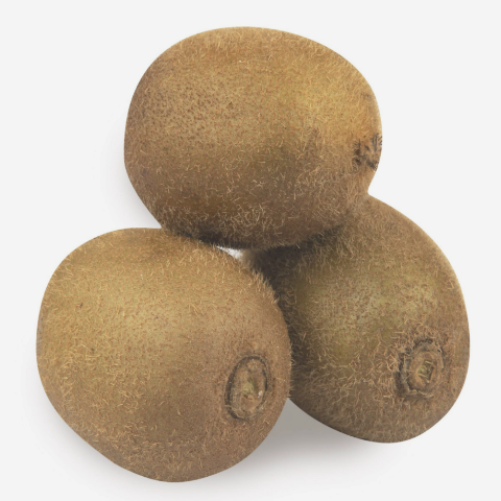kiwi: (21, 209, 317, 490), (98, 14, 386, 255), (230, 196, 460, 472)
